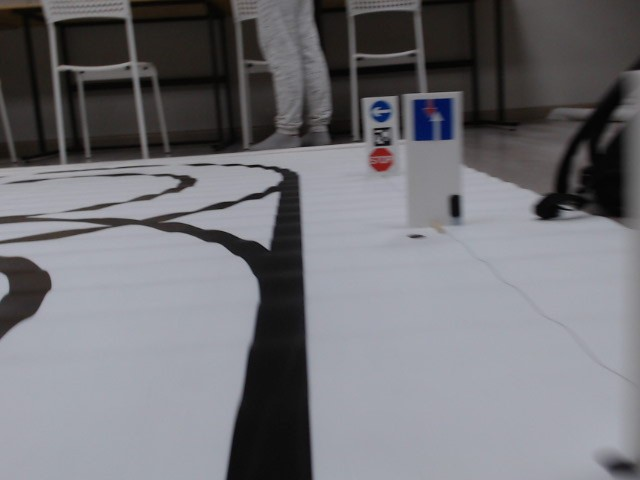Stop: (369, 147, 395, 173)
priority_movement: (410, 98, 456, 139)
